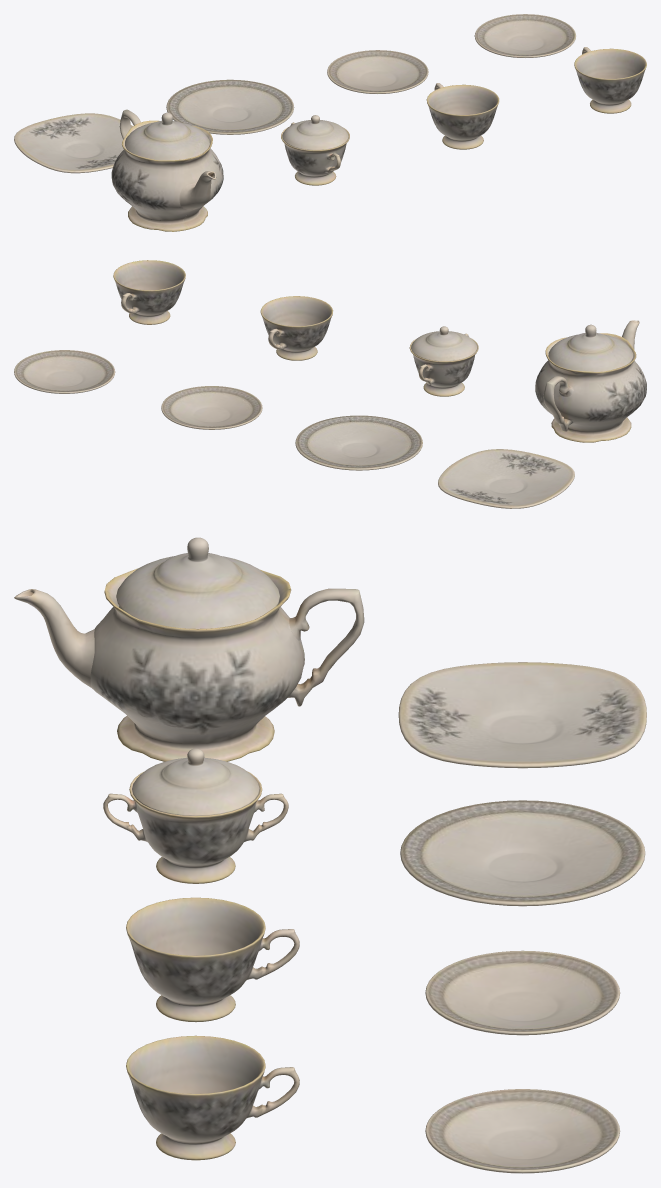
File: tea_set_01.glb
3 views of the same model, one above another, from view 1: azimuth 30°, elevation 25°; view 2: azimuth 150°, elevation 25°; view 3: azimuth 270°, elevation 25° (orthographic). The views are drawn at different scales.
Parts seen in each view (by area): view 1: tea_set_01_teapot_01, tea_set_01_plate_large_circular_03, tea_set_01_plate_large_square_01, tea_set_01_cup_small_01, tea_set_01_cup_small_02, tea_set_01_saucer_circular_04, tea_set_01_saucer_circular_03, tea_set_01_teapot_01_lid, tea_set_01_sugar_cup_01, tea_set_01_sugar_cup_01_lid; view 2: tea_set_01_teapot_01, tea_set_01_plate_large_square_01, tea_set_01_plate_large_circular_03, tea_set_01_cup_small_01, tea_set_01_cup_small_02, tea_set_01_saucer_circular_04, tea_set_01_saucer_circular_03, tea_set_01_teapot_01_lid, tea_set_01_sugar_cup_01, tea_set_01_sugar_cup_01_lid; view 3: tea_set_01_teapot_01, tea_set_01_plate_large_square_01, tea_set_01_plate_large_circular_03, tea_set_01_cup_small_02, tea_set_01_cup_small_01, tea_set_01_saucer_circular_03, tea_set_01_saucer_circular_04, tea_set_01_teapot_01_lid, tea_set_01_sugar_cup_01, tea_set_01_sugar_cup_01_lid.
Part boxes in pixels (x1,y1,x2,y2): tea_set_01_teapot_01: (111, 109, 223, 231); tea_set_01_plate_large_circular_03: (166, 79, 294, 134); tea_set_01_plate_large_square_01: (14, 113, 133, 173); tea_set_01_cup_small_01: (426, 83, 499, 149); tea_set_01_cup_small_02: (574, 47, 646, 113); tea_set_01_saucer_circular_04: (327, 50, 428, 93); tea_set_01_saucer_circular_03: (474, 14, 575, 57); tea_set_01_teapot_01_lid: (125, 112, 209, 160); tea_set_01_sugar_cup_01: (281, 122, 349, 185); tea_set_01_sugar_cup_01_lid: (282, 115, 348, 150); tea_set_01_teapot_01: (535, 320, 646, 442); tea_set_01_plate_large_square_01: (438, 449, 574, 508); tea_set_01_plate_large_circular_03: (295, 415, 422, 470); tea_set_01_cup_small_01: (260, 296, 333, 360); tea_set_01_cup_small_02: (113, 260, 185, 324); tea_set_01_saucer_circular_04: (161, 386, 262, 429); tea_set_01_saucer_circular_03: (14, 350, 115, 393); tea_set_01_teapot_01_lid: (548, 324, 633, 371); tea_set_01_sugar_cup_01: (409, 333, 478, 396); tea_set_01_sugar_cup_01_lid: (411, 326, 477, 361); tea_set_01_teapot_01: (14, 567, 364, 761); tea_set_01_plate_large_square_01: (398, 662, 646, 768); tea_set_01_plate_large_circular_03: (400, 800, 645, 906); tea_set_01_cup_small_02: (126, 1035, 299, 1160); tea_set_01_cup_small_01: (126, 897, 299, 1022); tea_set_01_saucer_circular_03: (425, 1089, 620, 1173); tea_set_01_saucer_circular_04: (425, 950, 620, 1035); tea_set_01_teapot_01_lid: (116, 537, 279, 628); tea_set_01_sugar_cup_01: (103, 771, 288, 883); tea_set_01_sugar_cup_01_lid: (132, 748, 259, 815).
Bounding box in the file's own units: 0.9185 × 0.165 × 0.4841.
1 material, 1 textured.
